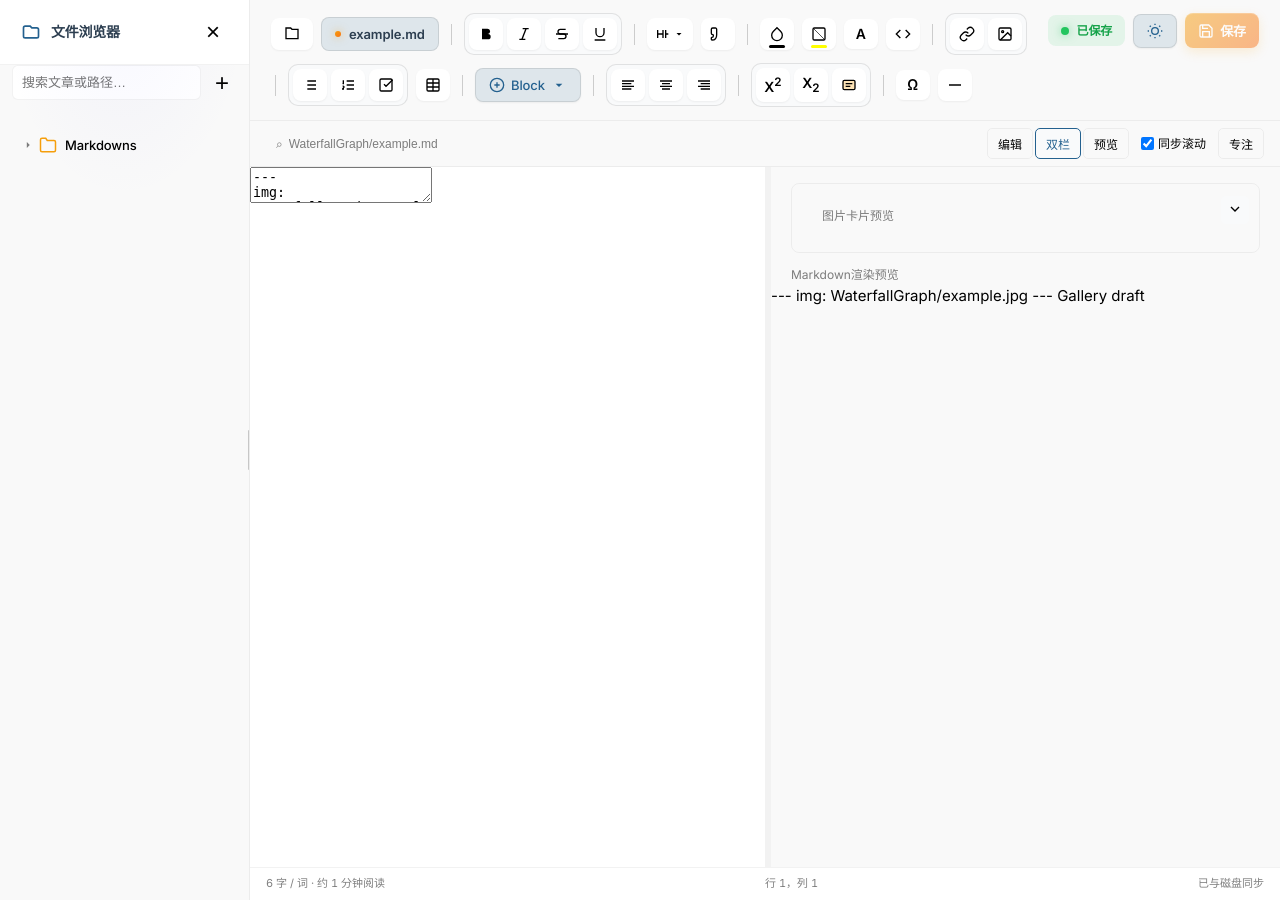
Test: editor workspace › opens the real gallery modal with unsaved source and supports closing it
This screenshot has width=1280, height=900.
Step 1. Replace the text in the text box named "正文" with "Unsaved description" → (341, 186), box [250,168,432,204]
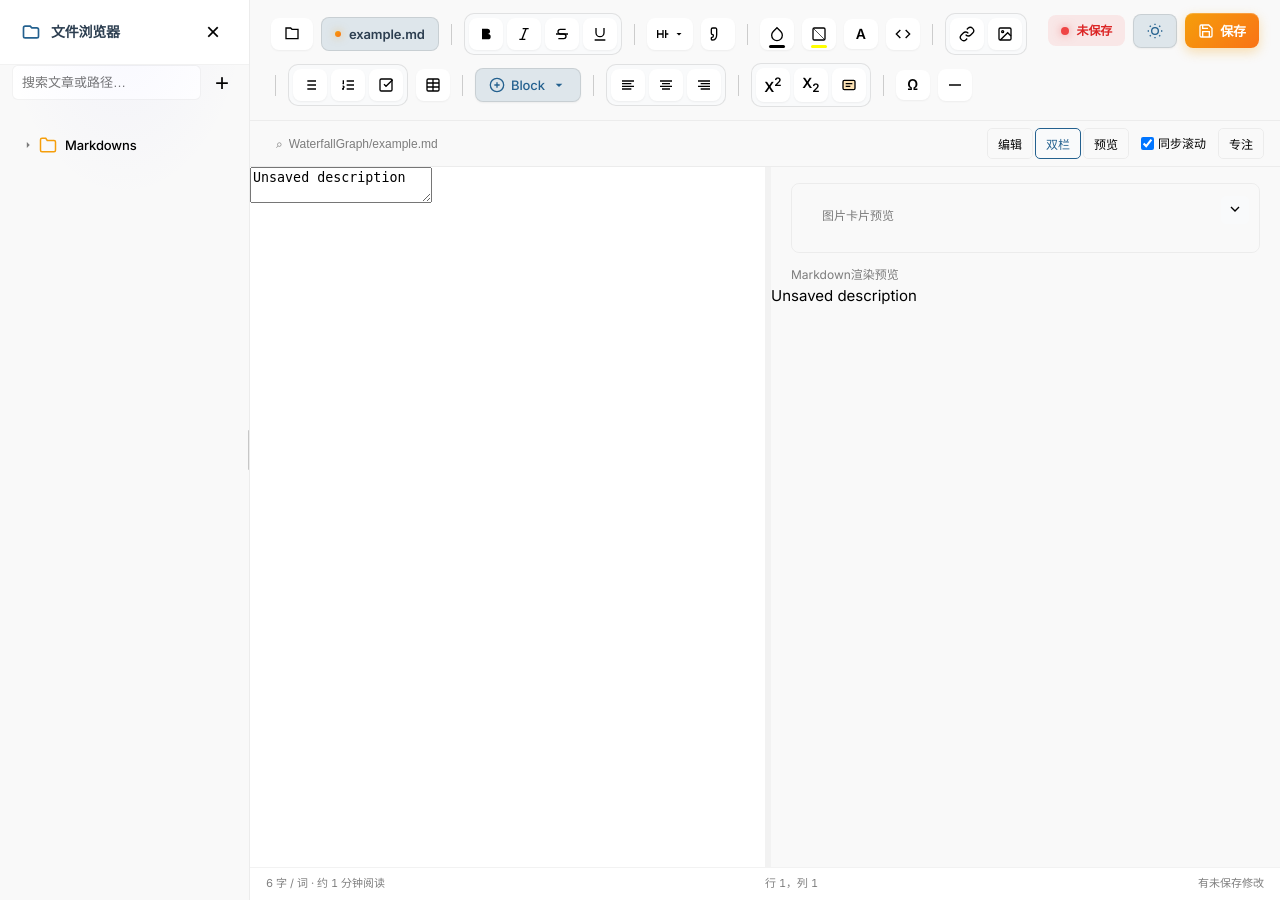
expect the text "Unsaved description" is shown: met, box [771,286,917,305]
